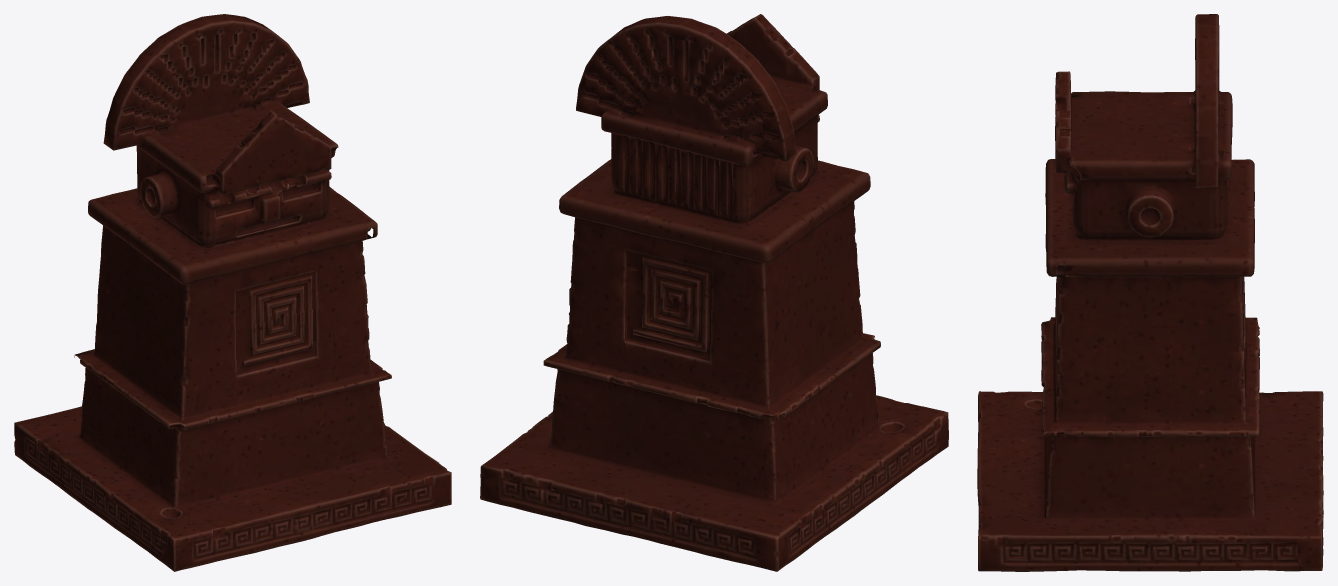
File: king-tezontle.glb
3 views of the same model, side by side, from view 1: azimuth 30°, elevation 25°; view 2: azimuth 150°, elevation 25°; view 3: azimuth 270°, elevation 25° (orthographic). The views are drawn at different scales.
Visible parts, largest first — view 1: king; view 2: king; view 3: king.
Boxes of the visible parts, left/top/right/bottom form: king: left=14, top=14, right=451, bottom=571; king: left=480, top=14, right=948, bottom=571; king: left=977, top=14, right=1323, bottom=571.
Bounding box in the file's own units: 0.7628 × 1.15 × 0.7632.
Materials: 1 (1 with a texture image).
